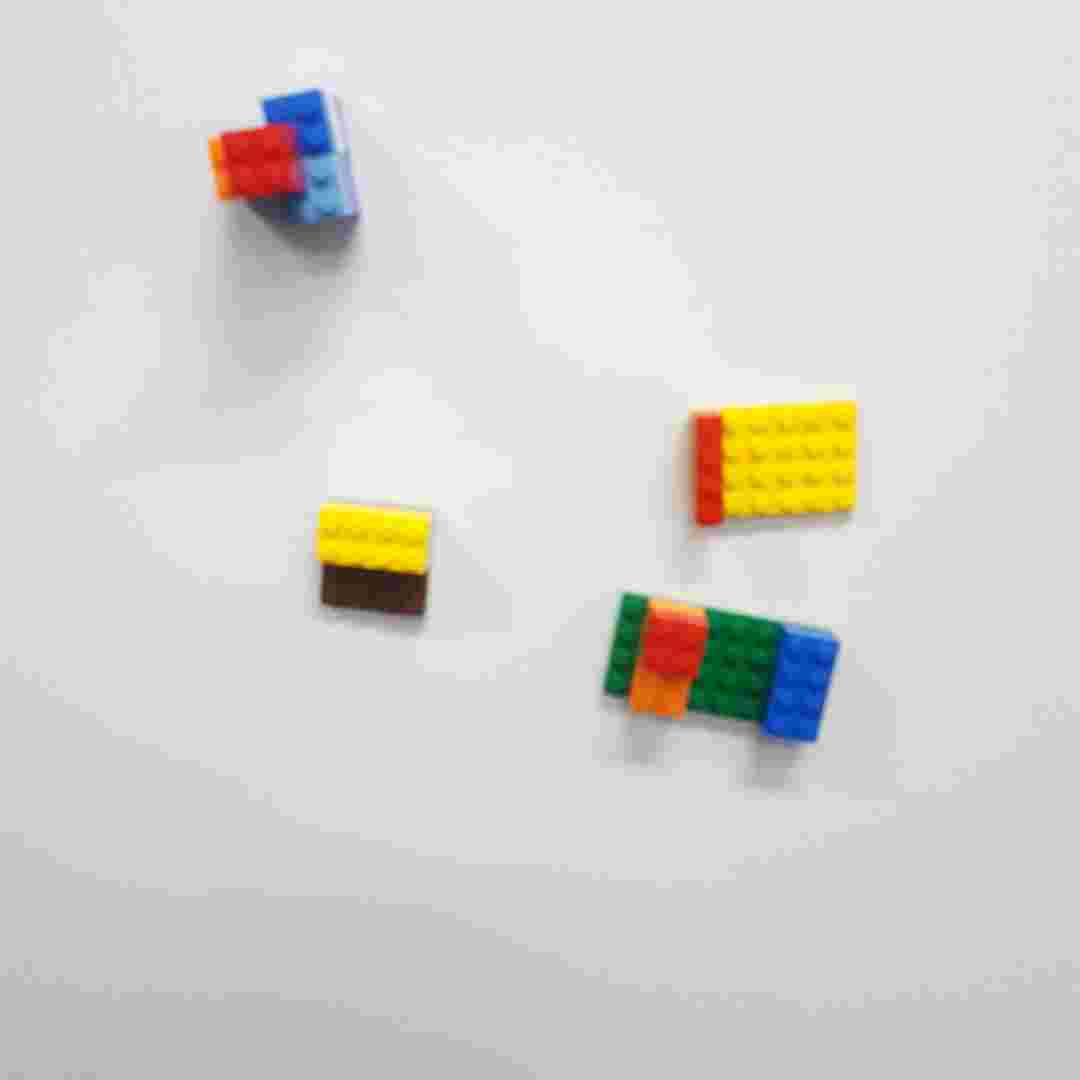LEGO: (598, 584, 849, 749), (683, 397, 867, 539), (205, 79, 360, 233), (309, 501, 441, 623)
